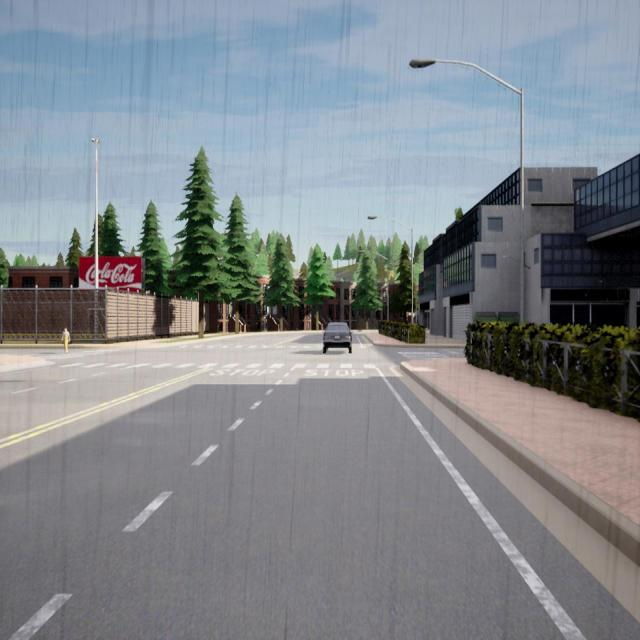Pedestrian: (61, 326, 72, 355)
Vehicle: (323, 322, 351, 353)
